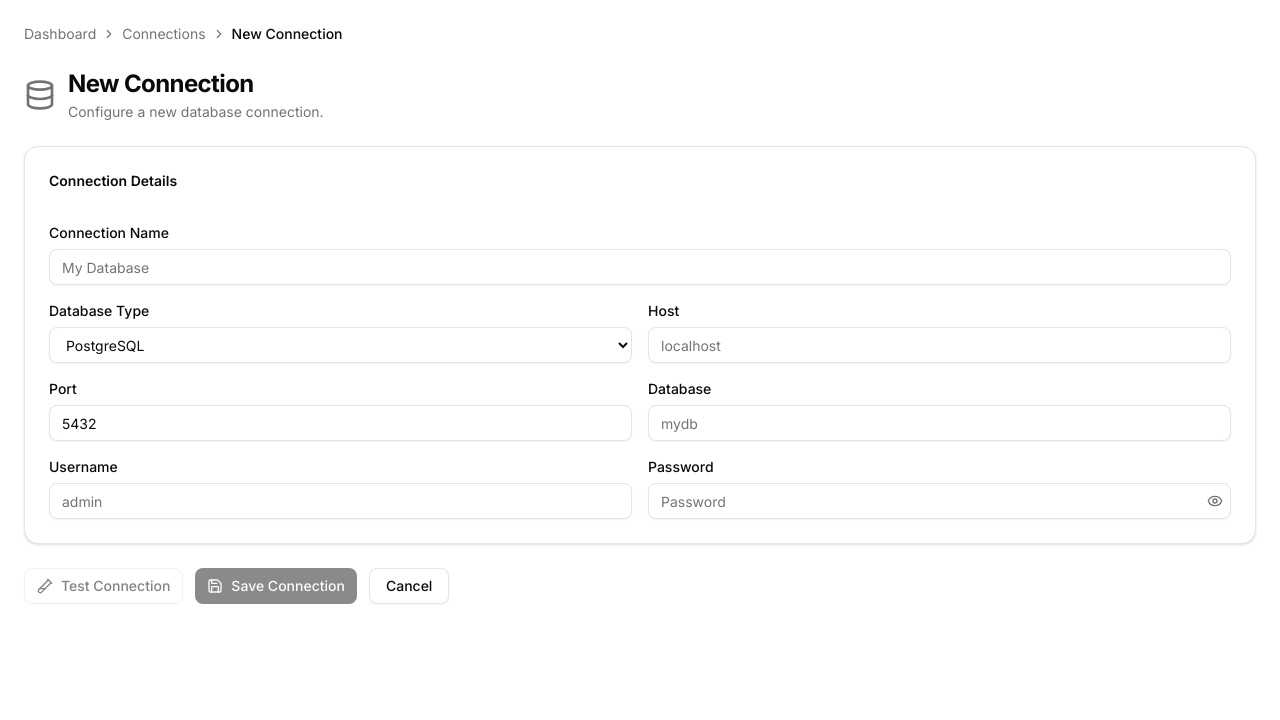
Test: ConnectionFormPage › port validation › shows error for empty port
Clear the field with test id "input-port" at point(340, 423), box x1=49 y1=405 x2=632 y2=441
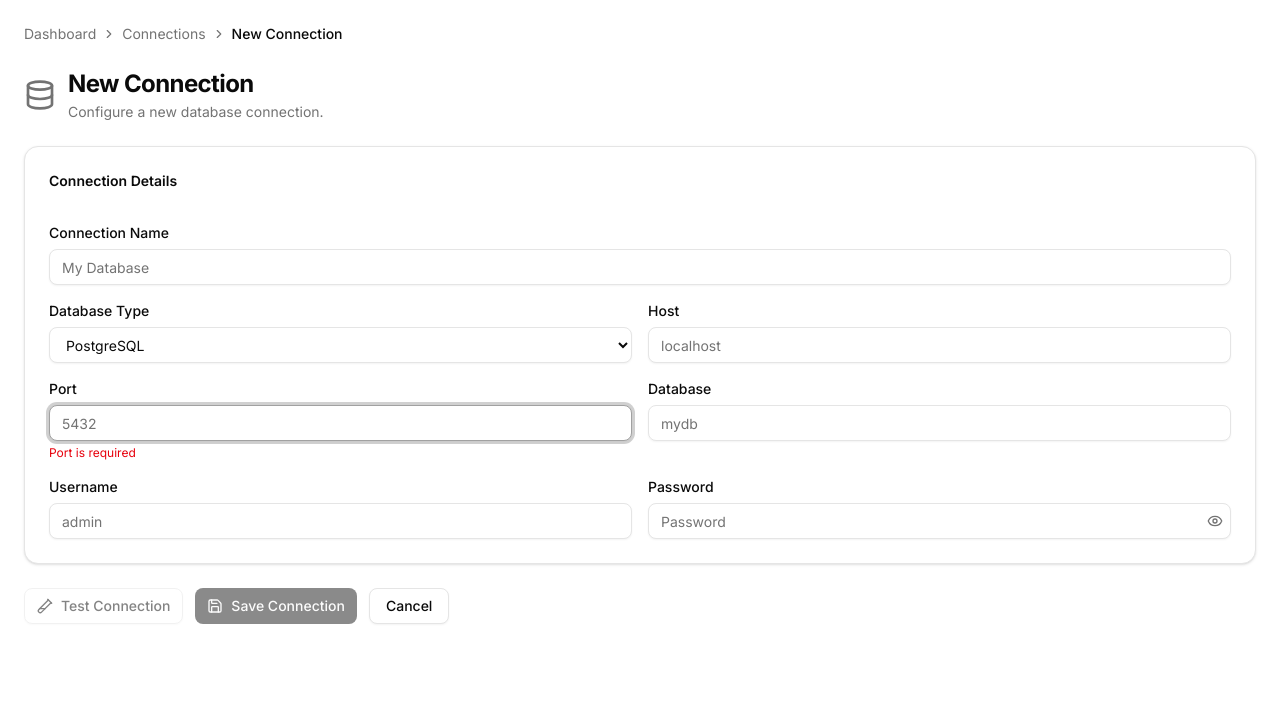
Expected: the text "Port is required" is shown, x1=49 y1=445 x2=136 y2=460
